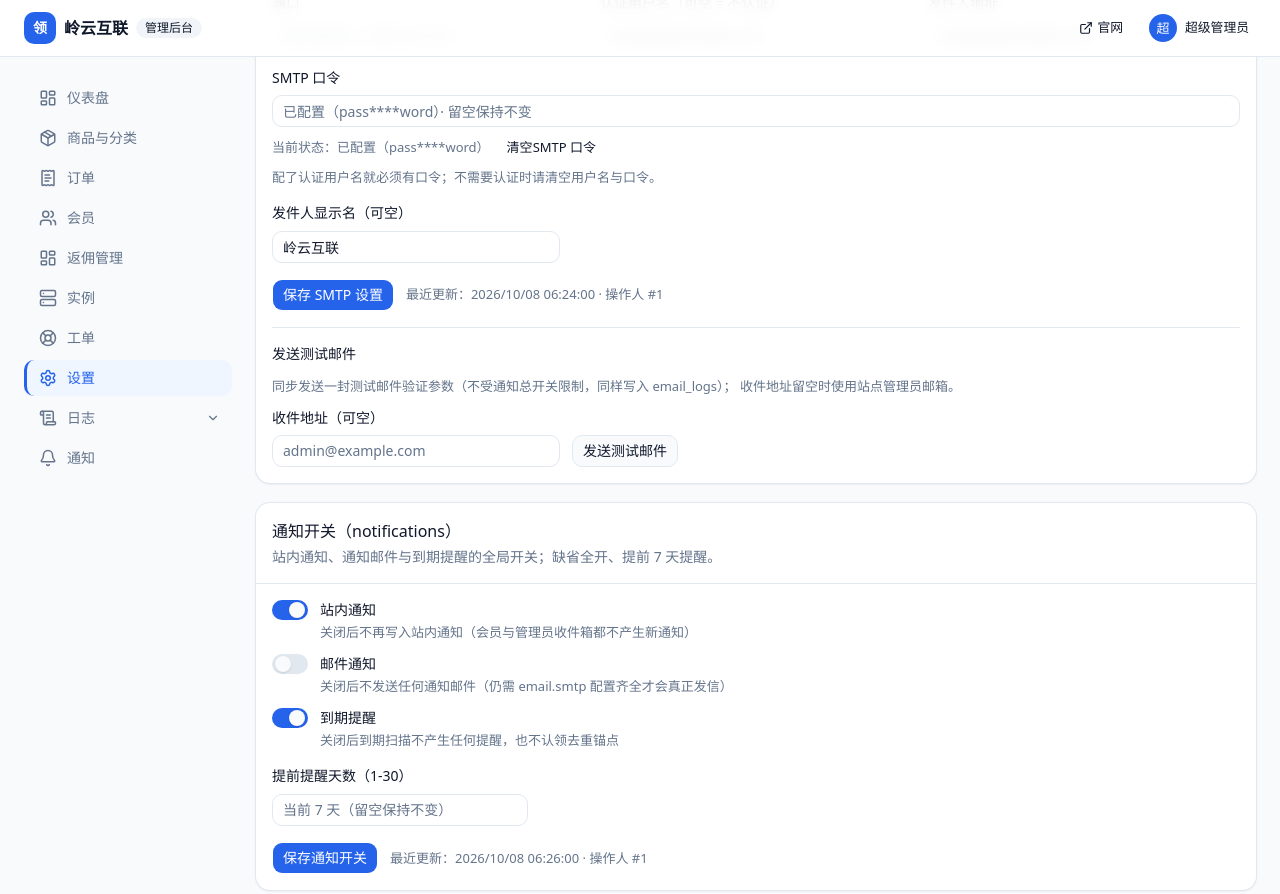
Test: 管理后台 · 全站设置 › SMTP：发送测试邮件前校验收件地址格式
This screenshot has width=1280, height=894.
(page scrolled)
Type "not-an-email" into the field labelled "收件地址（可空）" at (416, 451), box [272, 435, 560, 467]
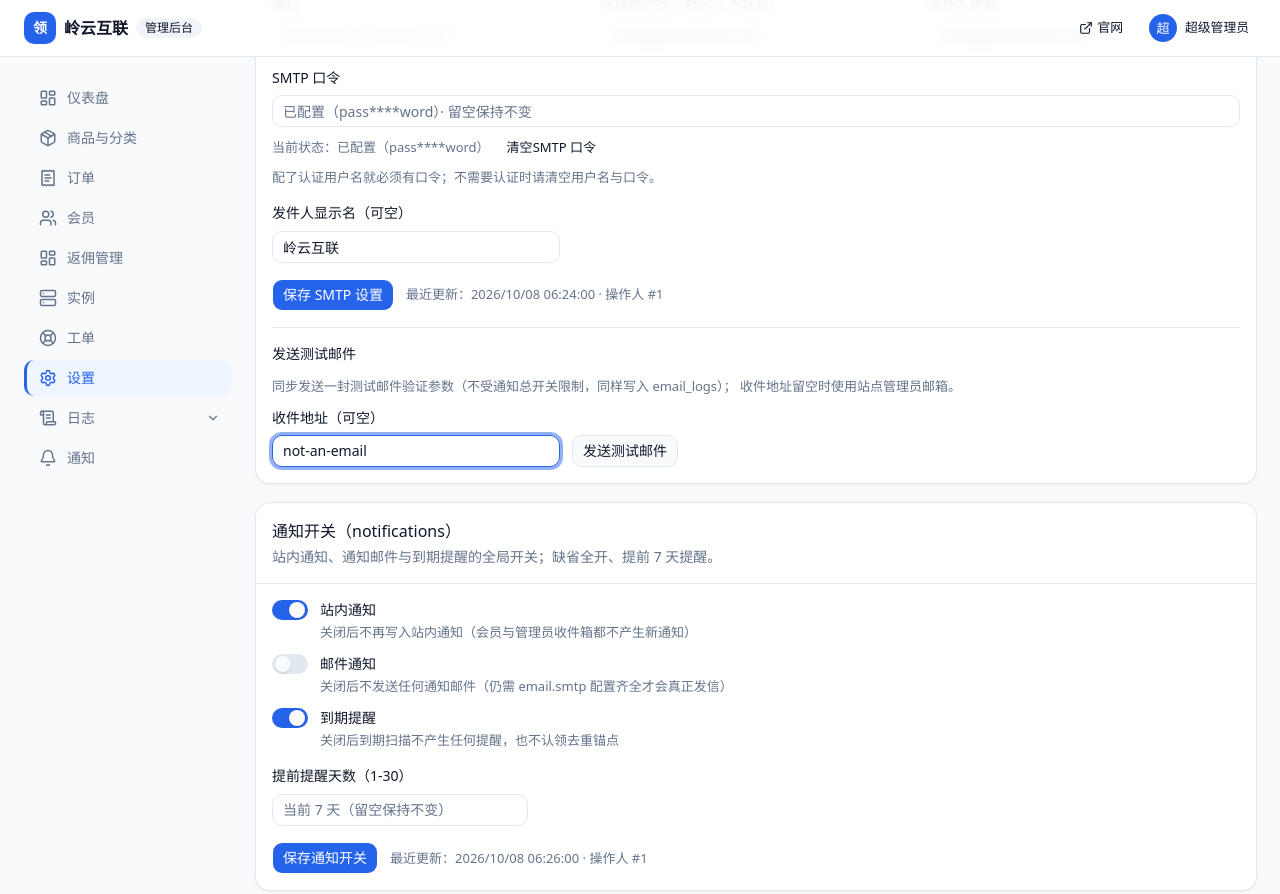
Click the button "发送测试邮件" at (625, 451), box [572, 435, 678, 467]
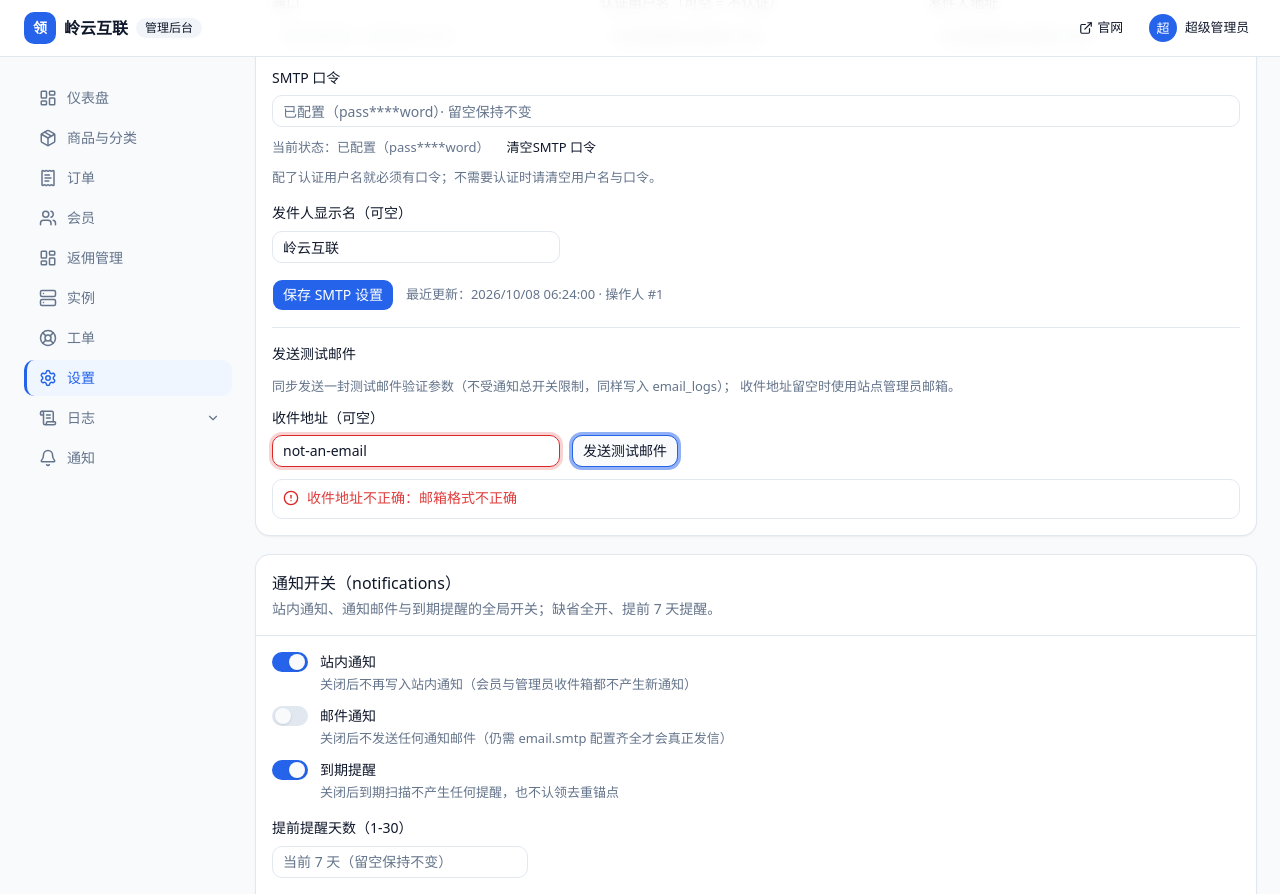
Now the text "收件地址不正确：邮箱格式不正确" is shown, box [307, 488, 517, 507]
